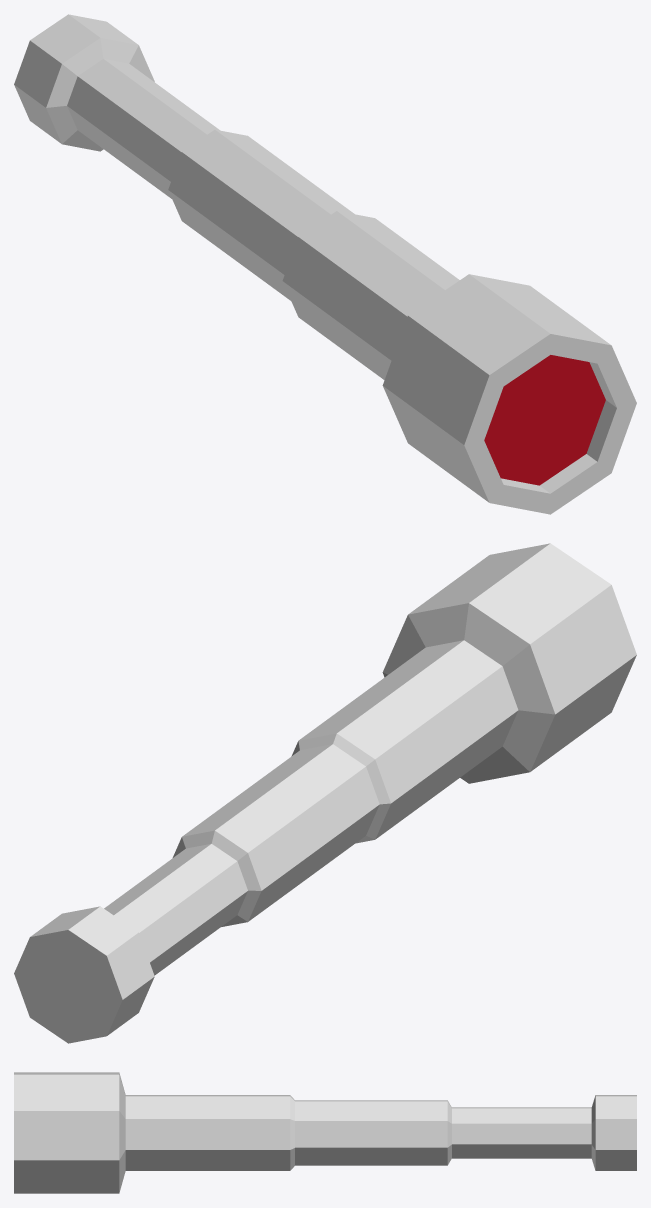
File: SM_Item_Spyglass_01.glb
3 renders of one model, top to bottom at view 1: azimuth 30°, elevation 25°; view 2: azimuth 150°, elevation 25°; view 3: azimuth 270°, elevation 25°, orthographic. The views are drawn at different scales.
Parts seen in each view (by area): view 1: SM_Item_Spyglass_01_00; view 2: SM_Item_Spyglass_01_00; view 3: SM_Item_Spyglass_01_00.
Boxes of the visible parts, bbox=[...] form: SM_Item_Spyglass_01_00: bbox=[14, 14, 636, 514]; SM_Item_Spyglass_01_00: bbox=[14, 543, 636, 1043]; SM_Item_Spyglass_01_00: bbox=[14, 1072, 636, 1193].
Bounding box in the file's own units: 0.0997 × 0.0997 × 0.4821.
Materials: 1 (1 with a texture image).
